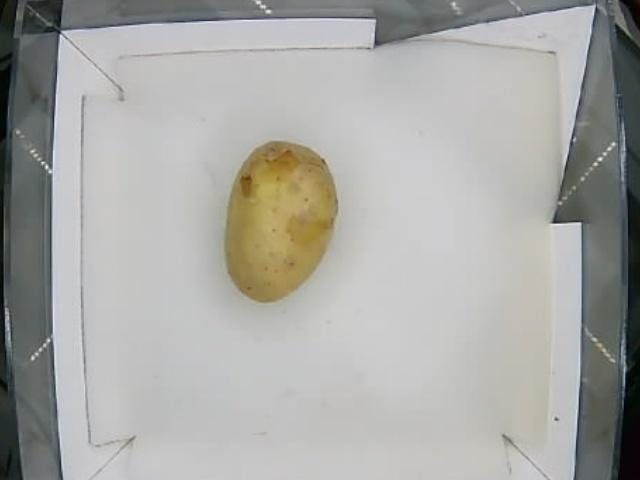Potato: (225, 140, 341, 304)
